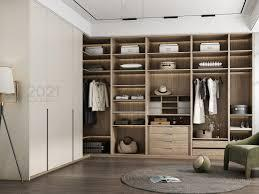carpet: (121, 162, 252, 192)
lamp: (0, 66, 14, 124)
sofa: (224, 131, 259, 177)
wardroab: (82, 35, 251, 158)
